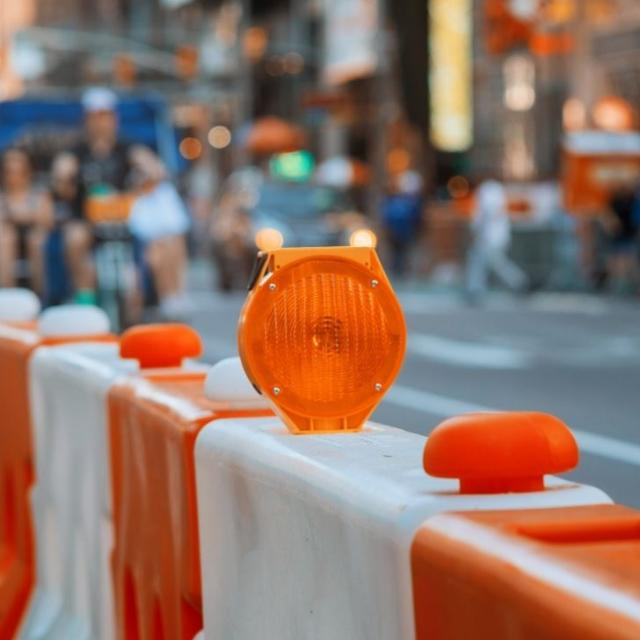cone: (1, 210, 640, 640)
